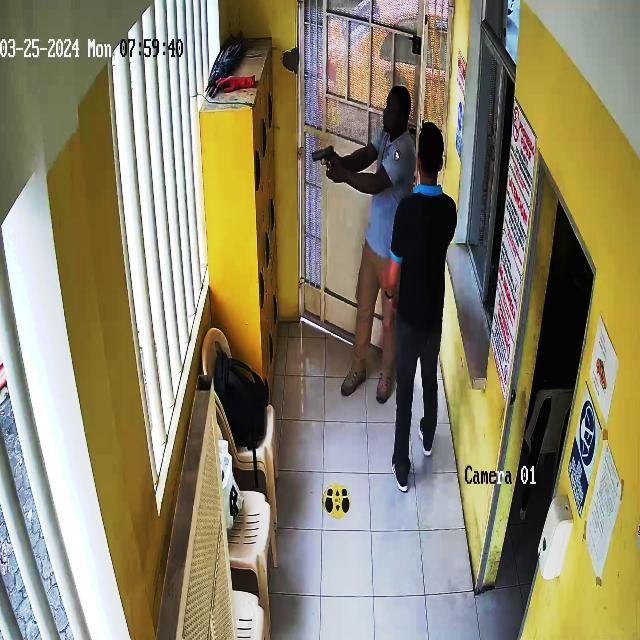Gun: (298, 134, 344, 187)
